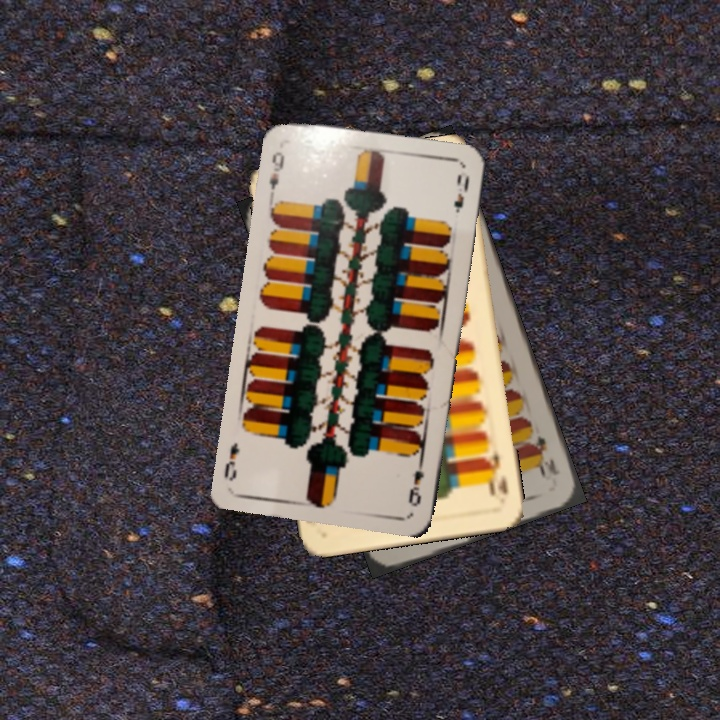E10: (529, 431, 562, 479), (482, 446, 511, 498)
E9: (404, 454, 427, 509), (265, 147, 287, 199)
